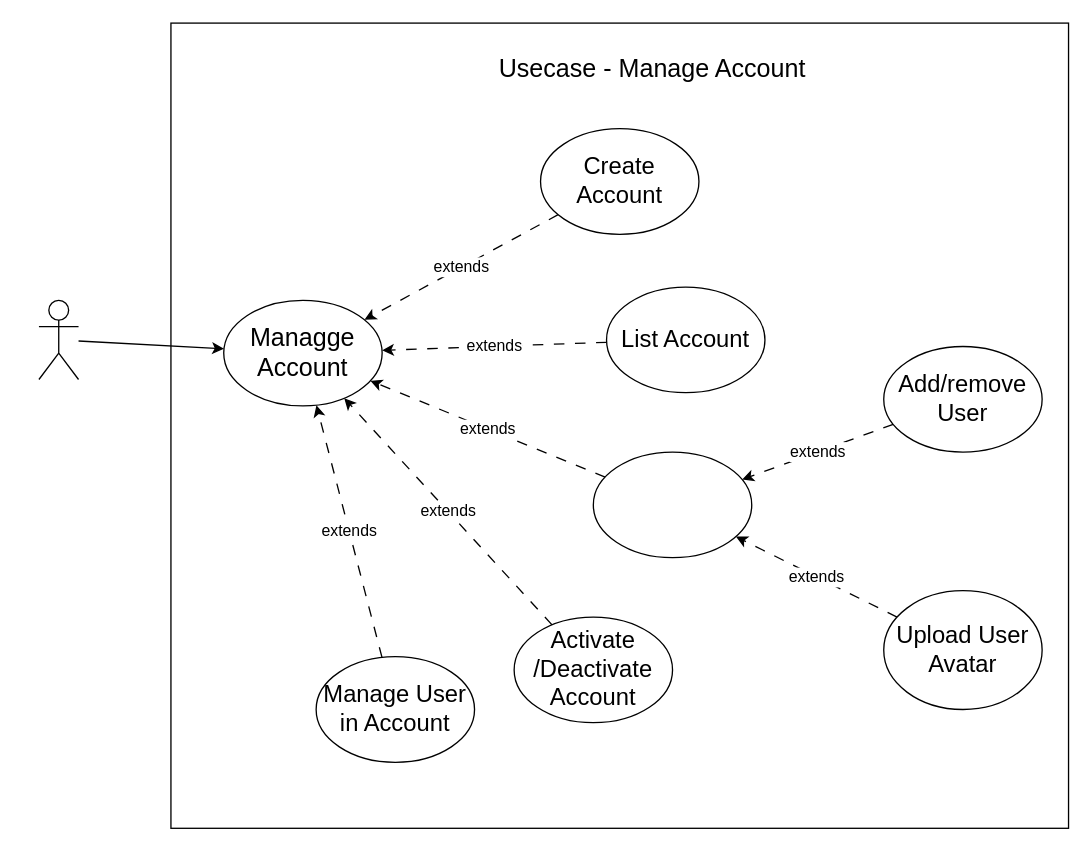
This 1092x851 diagram has some shape labels left out. The shapes that lost their labels are listed below. From the top down, each one's centre as x and y in pixels, then its label:
point (58, 339): Admin
point (672, 504): Change Account information
